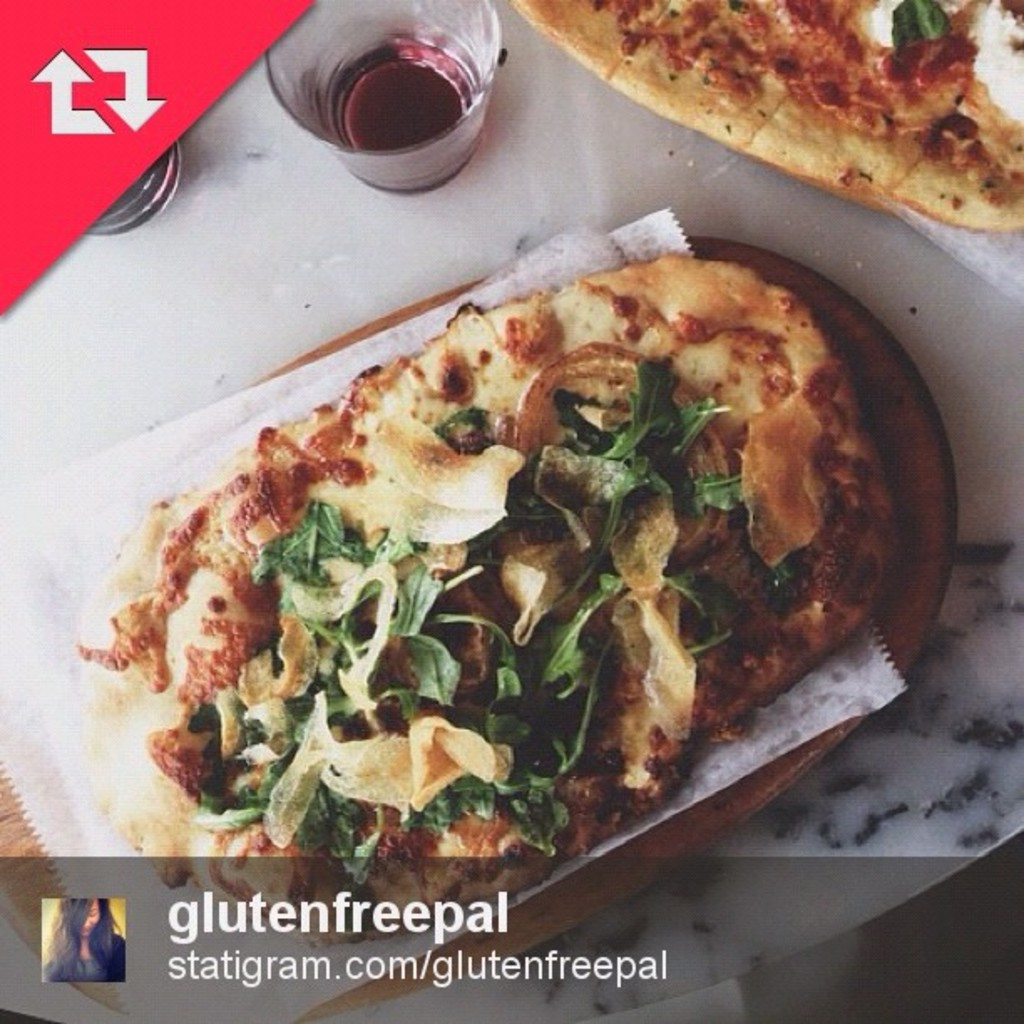Pizza: (75, 245, 896, 906), (517, 0, 1022, 229)
